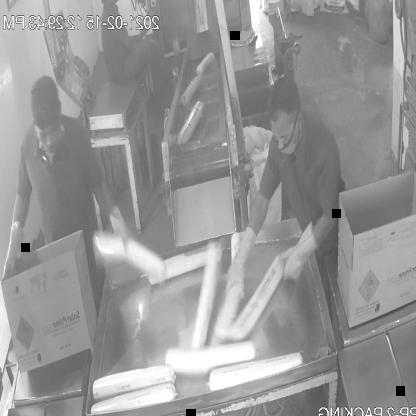glove: (222, 186, 276, 303), (276, 197, 340, 294), (105, 197, 145, 253), (0, 206, 26, 286)
